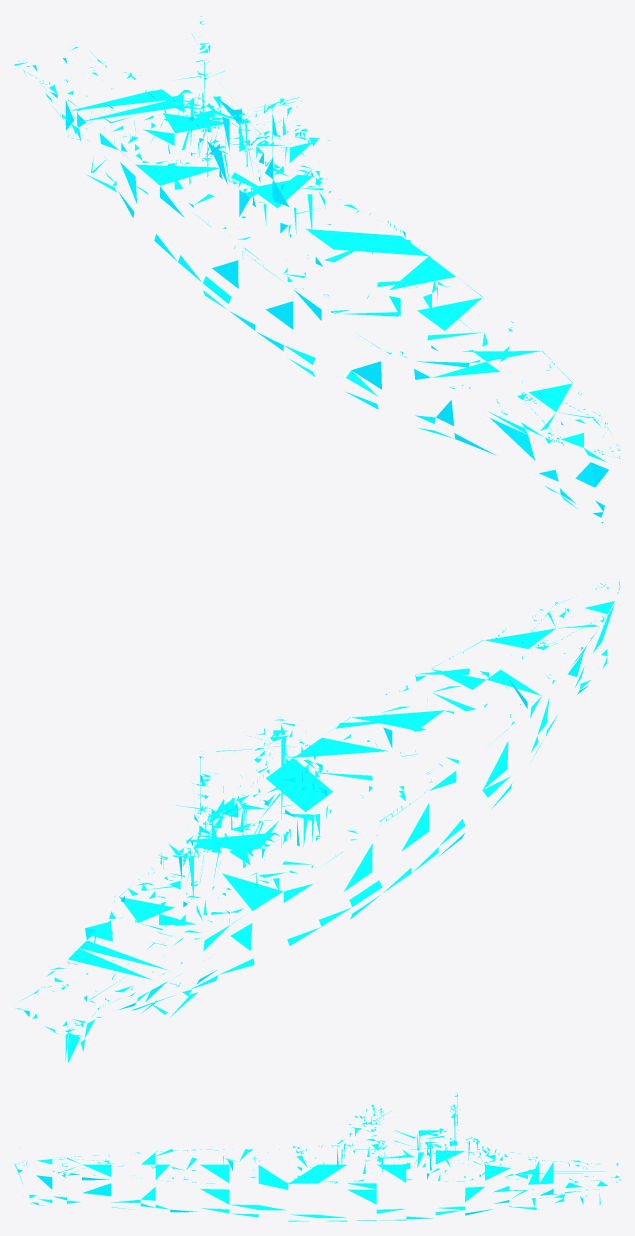
File: Lenin.glb
The picture shows the model from 3 angles, top to bottom: view 1: azimuth 30°, elevation 25°; view 2: azimuth 150°, elevation 25°; view 3: azimuth 270°, elevation 25°; orthographic projection. The views are drawn at different scales.
Bounding box in the file's own units: 2.43 × 3.19 × 15.44.
